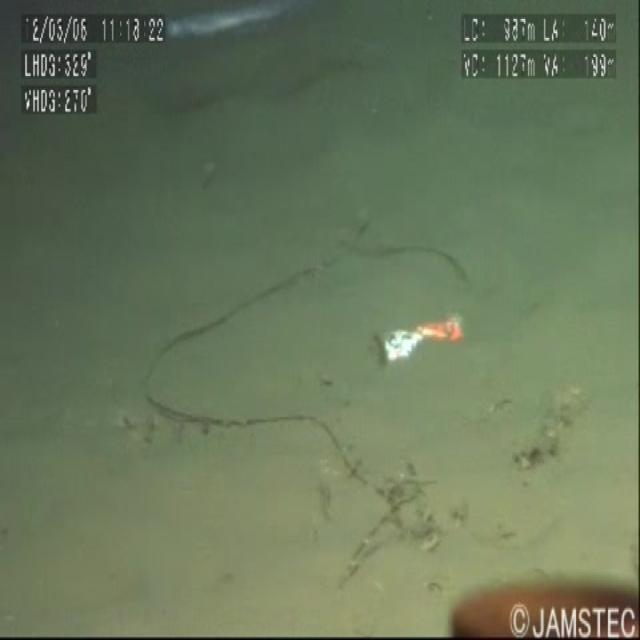Litter: (363, 284, 480, 388)
